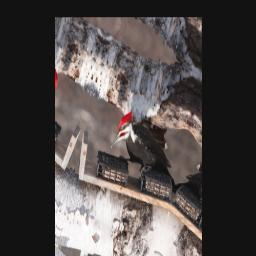Woodpecker: (108, 100, 178, 193)
